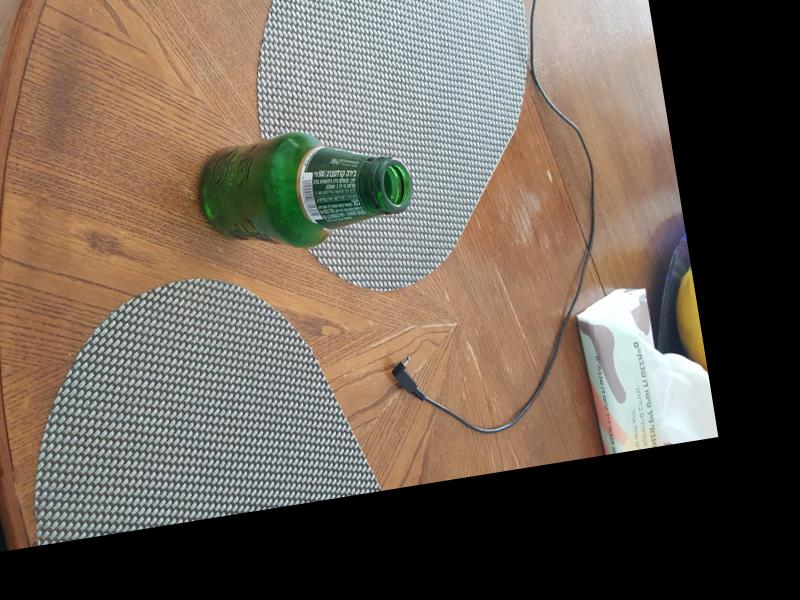Beer: (191, 115, 420, 259)
